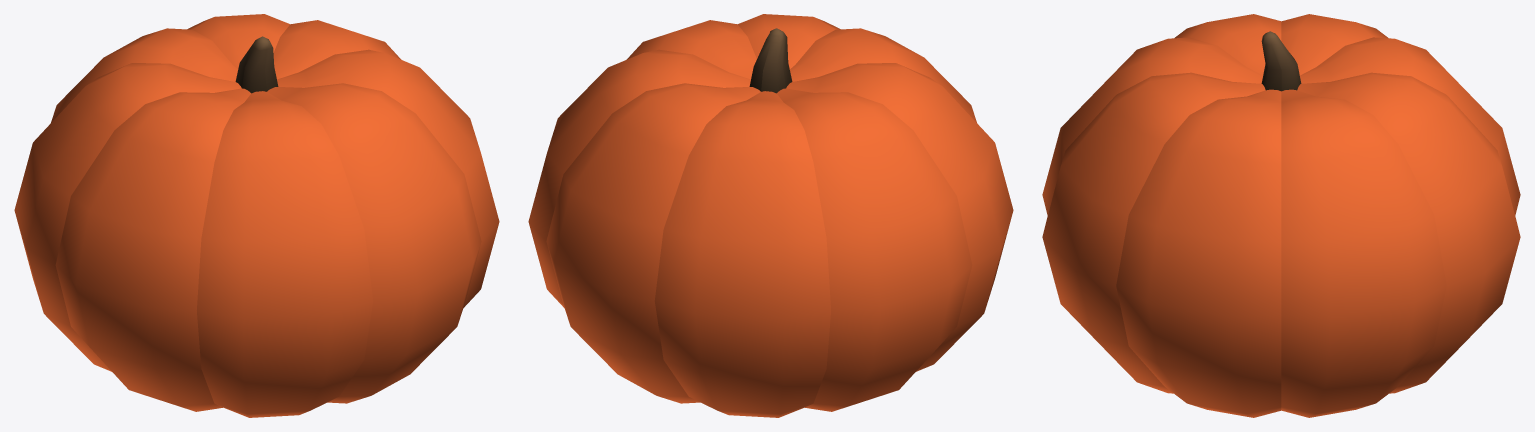
The model's file is MM_Pumpkin.fbx.
3 renders of one model, left to right at view 1: azimuth 30°, elevation 25°; view 2: azimuth 150°, elevation 25°; view 3: azimuth 270°, elevation 25°, orthographic.
Visible parts, largest first — view 1: MM_Pumpkin; view 2: MM_Pumpkin; view 3: MM_Pumpkin.
Boxes of the visible parts, x1,y1,x2,y2 form: MM_Pumpkin: (14,14,499,417); MM_Pumpkin: (528,14,1013,417); MM_Pumpkin: (1042,14,1520,417).
Bounding box in the file's own units: 120 × 92.36 × 120.
